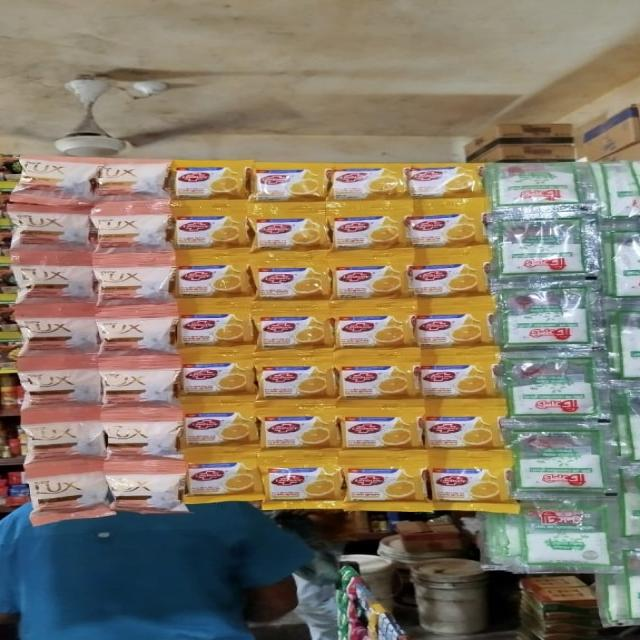ubl: (12, 158, 93, 208), (89, 211, 173, 257), (14, 319, 106, 361), (432, 460, 505, 512), (97, 315, 176, 360), (17, 424, 103, 464), (23, 474, 108, 514), (15, 369, 98, 406), (11, 268, 96, 304), (99, 263, 170, 305), (100, 161, 162, 209), (111, 470, 181, 512), (11, 215, 89, 252), (415, 364, 494, 400), (99, 369, 175, 406), (403, 264, 481, 300), (337, 365, 416, 400), (256, 365, 332, 401), (340, 416, 420, 450), (409, 314, 486, 349), (343, 468, 419, 503), (264, 467, 340, 502), (402, 214, 478, 249), (400, 166, 480, 199), (178, 362, 252, 397), (332, 266, 406, 301), (260, 416, 335, 450), (184, 413, 256, 448), (255, 316, 327, 351), (332, 315, 408, 348), (324, 168, 399, 201), (422, 416, 499, 448), (186, 462, 256, 497), (329, 216, 401, 250), (251, 218, 325, 251), (170, 167, 244, 200), (254, 267, 325, 301), (175, 264, 245, 298), (177, 314, 247, 348), (109, 421, 175, 456), (250, 169, 321, 201), (174, 216, 243, 248)
